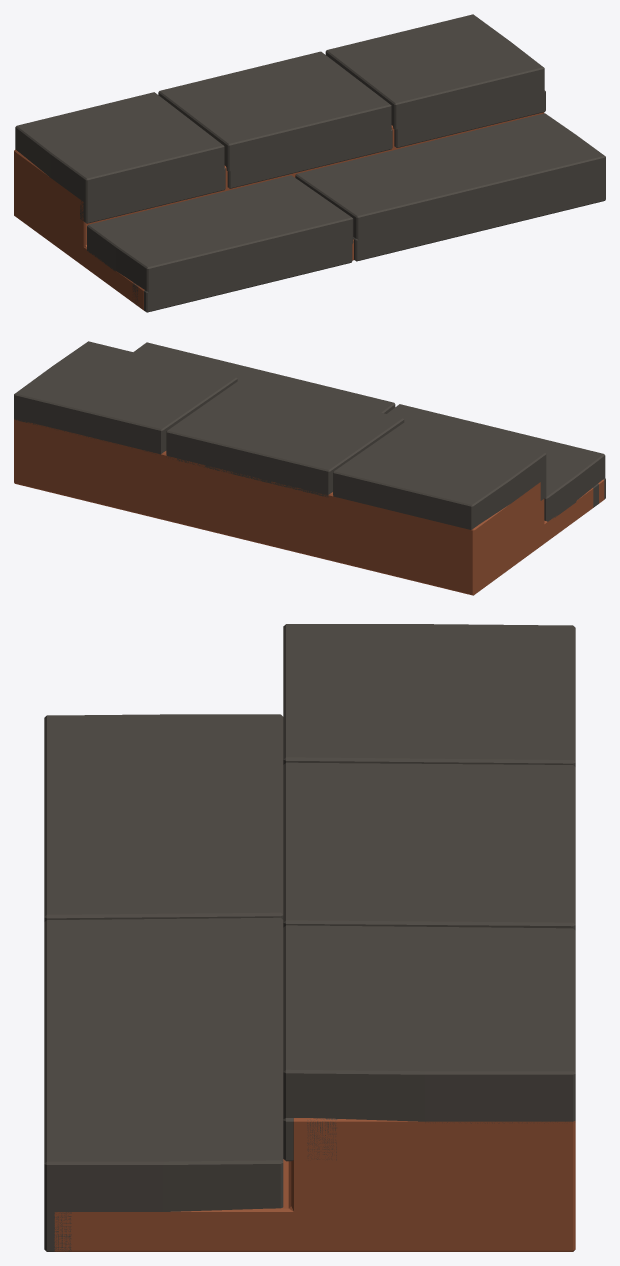
File: laterite_steps.glb
3 views of the same model, one above another, from view 1: azimuth 30°, elevation 25°; view 2: azimuth 150°, elevation 25°; view 3: azimuth 270°, elevation 25° (orthographic). The views are drawn at different scales.
Parts seen in each view (by area): view 1: laterite_steps; view 2: laterite_steps; view 3: laterite_steps.
Part boxes in pixels (<box>): laterite_steps: <box>14,14,605,312</box>; laterite_steps: <box>14,341,605,595</box>; laterite_steps: <box>44,624,575,1251</box>.
Bounding box in the file's own units: 1.6 × 0.3 × 0.8.
